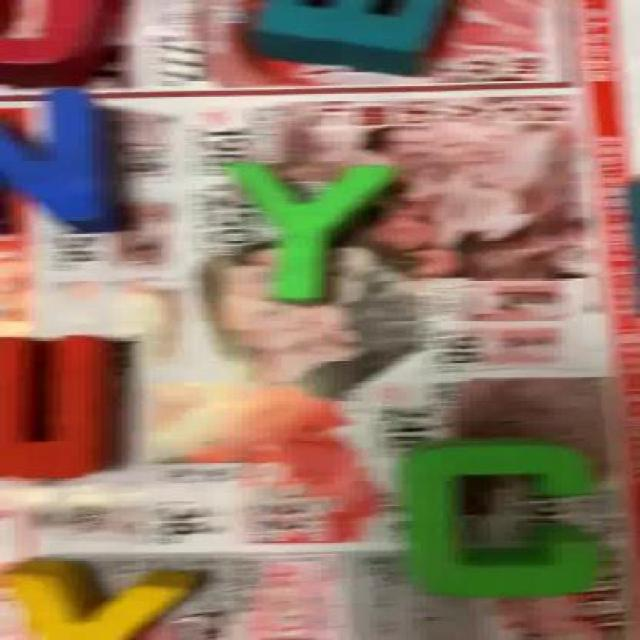C: (408, 439, 602, 596)
Y: (232, 168, 383, 300)
